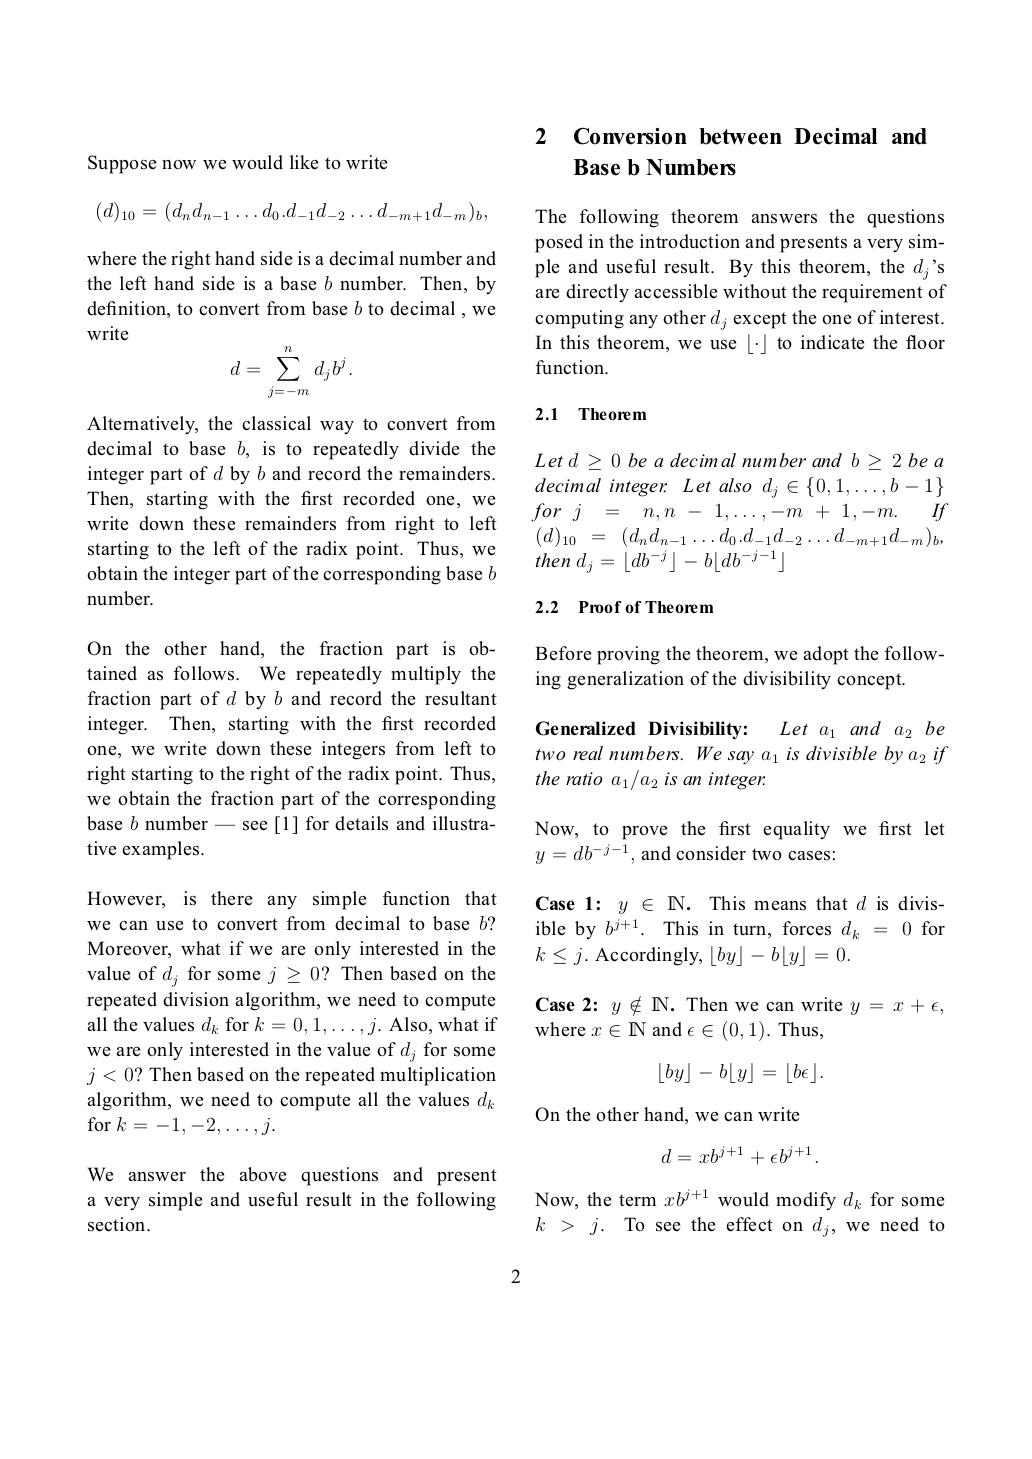formula: (537, 526, 942, 547), (531, 502, 948, 522), (97, 201, 486, 222), (230, 346, 351, 397), (535, 549, 783, 573), (659, 1062, 822, 1083), (661, 1145, 818, 1165)
